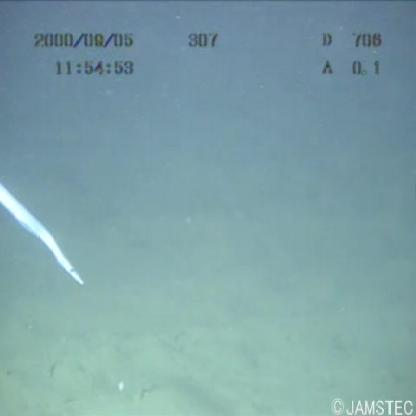Bio: (1, 172, 97, 298)
